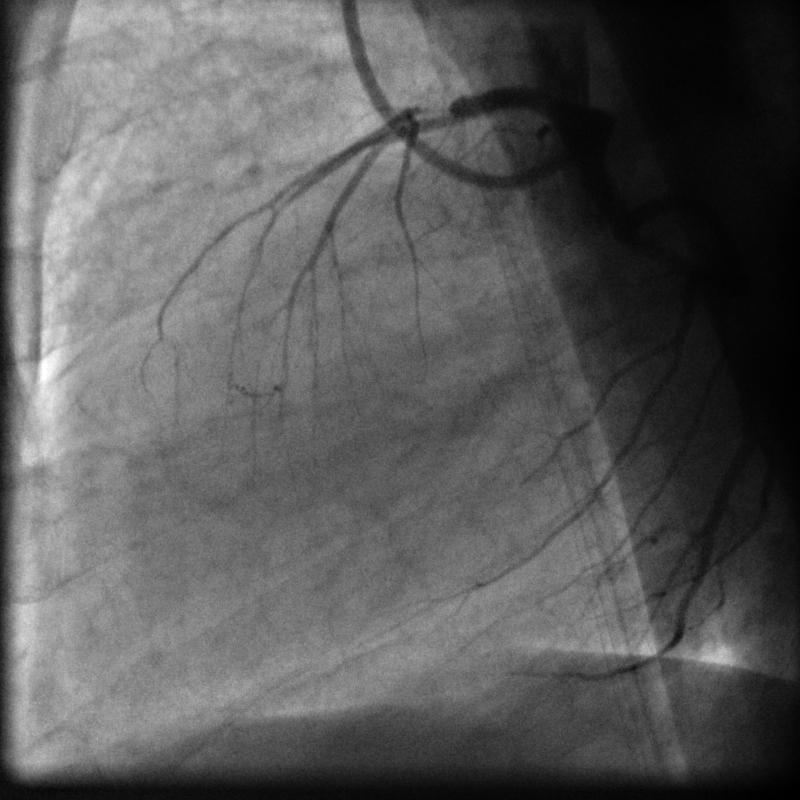Stenosis: (397, 94, 477, 133)
